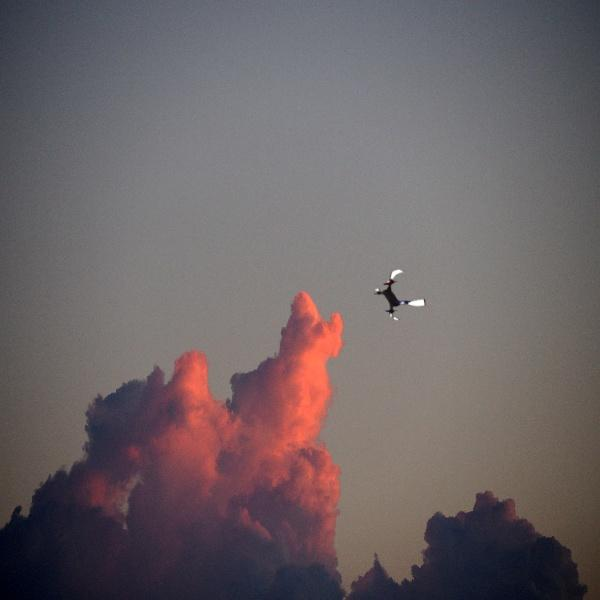drone: (372, 269, 426, 323)
